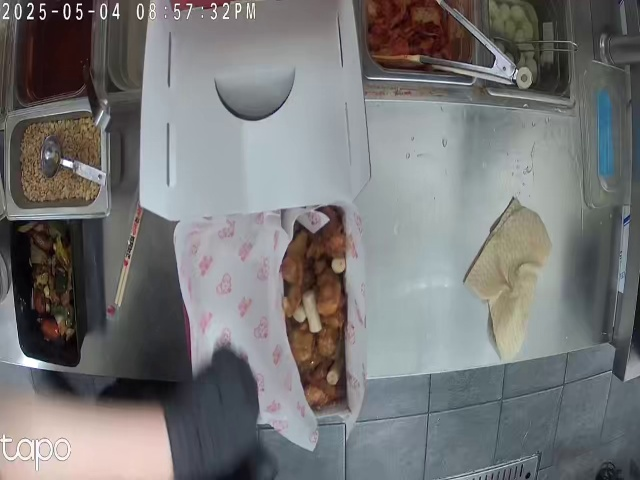delivery box: (134, 16, 375, 424)
food: (275, 218, 356, 415)
hand: (167, 356, 262, 464)
